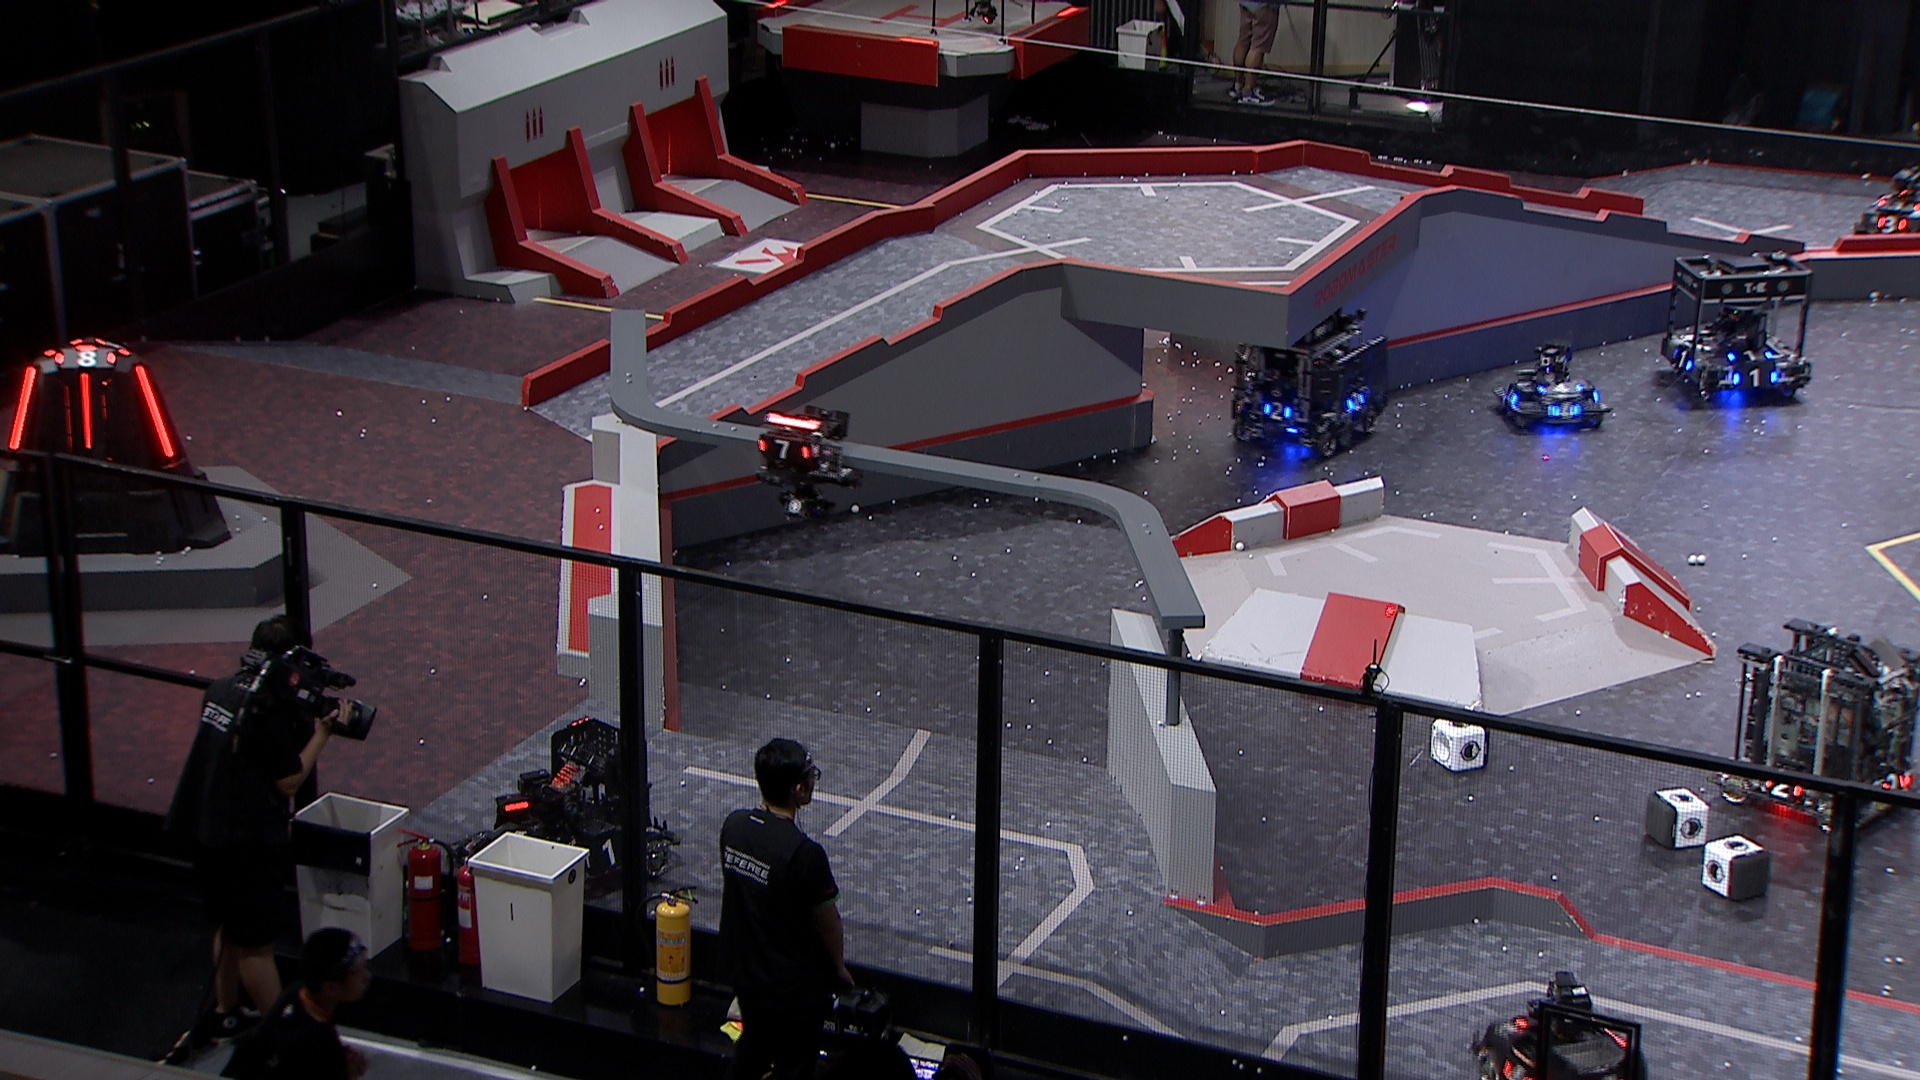armor: (135, 363, 174, 460), (7, 365, 38, 451), (51, 342, 119, 371), (756, 436, 814, 463), (78, 372, 95, 451), (580, 840, 618, 870), (1731, 368, 1779, 392), (1536, 378, 1585, 398), (1726, 348, 1778, 365), (1547, 400, 1582, 423), (1764, 779, 1804, 799), (1262, 400, 1294, 423), (1499, 1059, 1534, 1080), (1876, 196, 1920, 211), (1669, 348, 1695, 373), (1875, 215, 1908, 233), (1880, 771, 1907, 793), (1346, 389, 1367, 413), (1501, 389, 1523, 407)
car: (1704, 618, 1920, 833), (451, 716, 683, 901), (1228, 305, 1396, 460), (1660, 249, 1817, 400), (1472, 968, 1651, 1080), (1493, 342, 1615, 429), (1854, 167, 1920, 249)
watcher: (754, 404, 858, 520)
